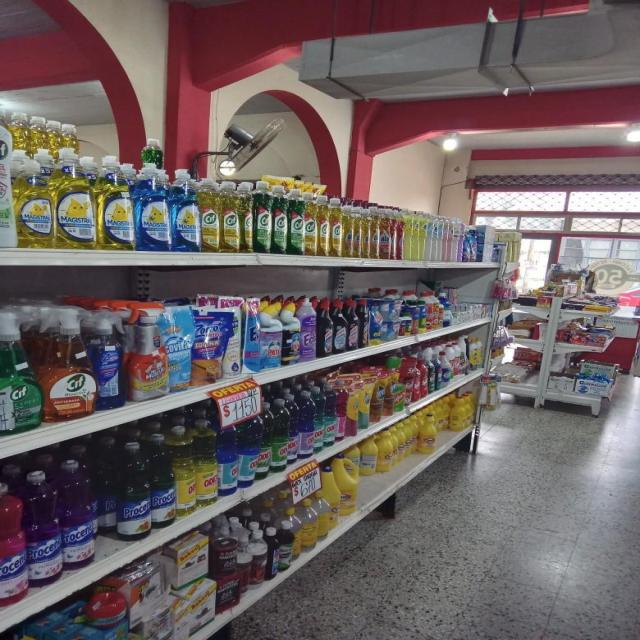ala_conc_amarillo: (343, 205, 353, 258), (354, 207, 363, 258), (364, 207, 372, 258), (370, 208, 378, 258), (375, 208, 382, 259)
ala_conc_rojo: (381, 210, 391, 260), (398, 210, 405, 260), (391, 210, 398, 260)
cif_conc_bot_amarilla: (200, 178, 219, 252), (220, 180, 239, 253), (240, 181, 254, 253), (304, 190, 317, 256), (329, 198, 342, 257), (318, 196, 329, 256)
cif_conc_botella_verde: (255, 181, 271, 253), (272, 183, 288, 254), (288, 186, 304, 255)
cif_conc_sachet_verde: (0, 114, 15, 250)
magistral_con_amarillo: (54, 149, 96, 250), (97, 154, 134, 250), (16, 156, 53, 249), (469, 332, 485, 368)
magistral_con_azul: (135, 165, 171, 252), (172, 168, 200, 252)
